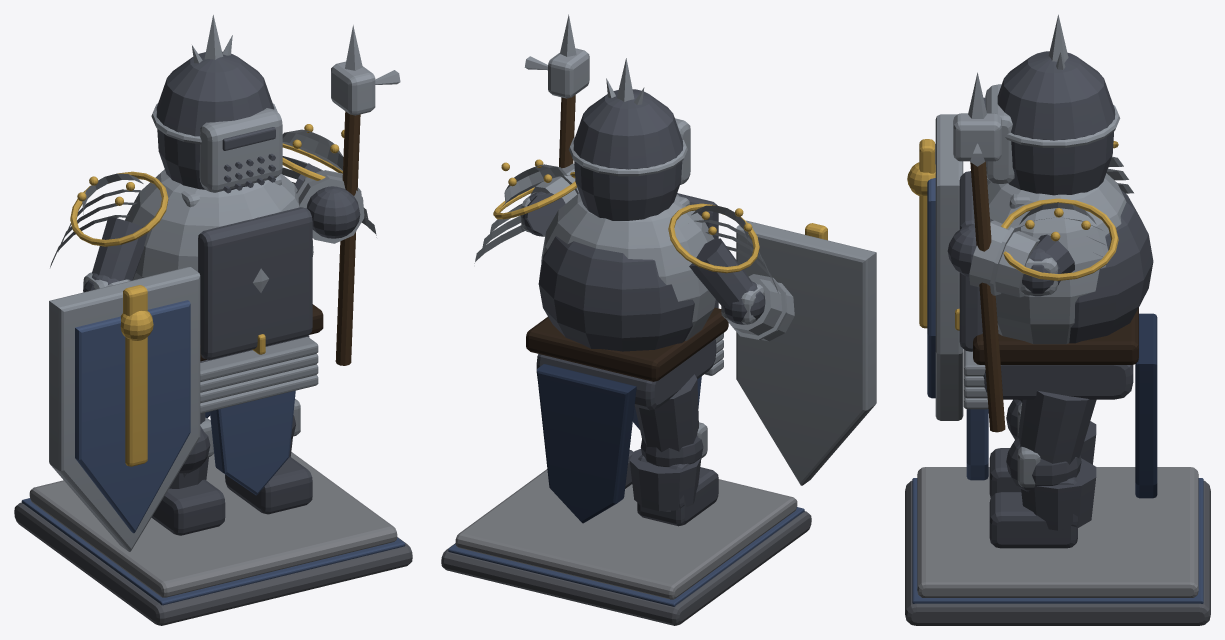
Rendered from heavy_infantry.glb.
The picture shows the model from 3 angles, left to right: view 1: azimuth 30°, elevation 25°; view 2: azimuth 150°, elevation 25°; view 3: azimuth 270°, elevation 25°; orthographic projection. The views are drawn at different scales.
Visible parts, largest first — view 1: steel, dark, owner, lstone, stone, brass, dwood; view 2: steel, dark, lstone, ownerDark, stone, dleather, brass, owner, dwood; view 3: dark, steel, lstone, stone, owner, brass, dleather, ownerDark, dwood.
Boxes of the visible parts, box(x1,y1,x2,y2) form: steel: box(49, 15, 400, 551); dark: box(83, 51, 360, 535); owner: box(21, 300, 405, 605); lstone: box(29, 452, 397, 597); stone: box(14, 502, 412, 625); brass: box(70, 124, 344, 466); dwood: box(335, 111, 360, 365); steel: box(474, 14, 876, 485); dark: box(521, 89, 765, 526); lstone: box(455, 469, 797, 599); ownerDark: box(536, 364, 636, 523); stone: box(441, 511, 811, 625); dleather: box(526, 307, 728, 381); brass: box(493, 159, 827, 273); owner: box(448, 376, 804, 606); dwood: box(559, 95, 575, 168); dark: box(947, 51, 1153, 548); steel: box(935, 14, 1133, 487); lstone: box(917, 467, 1198, 597); stone: box(905, 480, 1210, 625); owner: box(912, 144, 1203, 603); brass: box(907, 139, 1118, 330); dleather: box(973, 308, 1138, 364); ownerDark: box(1135, 313, 1157, 498); dwood: box(970, 161, 1005, 432).
Bounding box in the file's own units: 1.08 × 1.51 × 0.7606.
